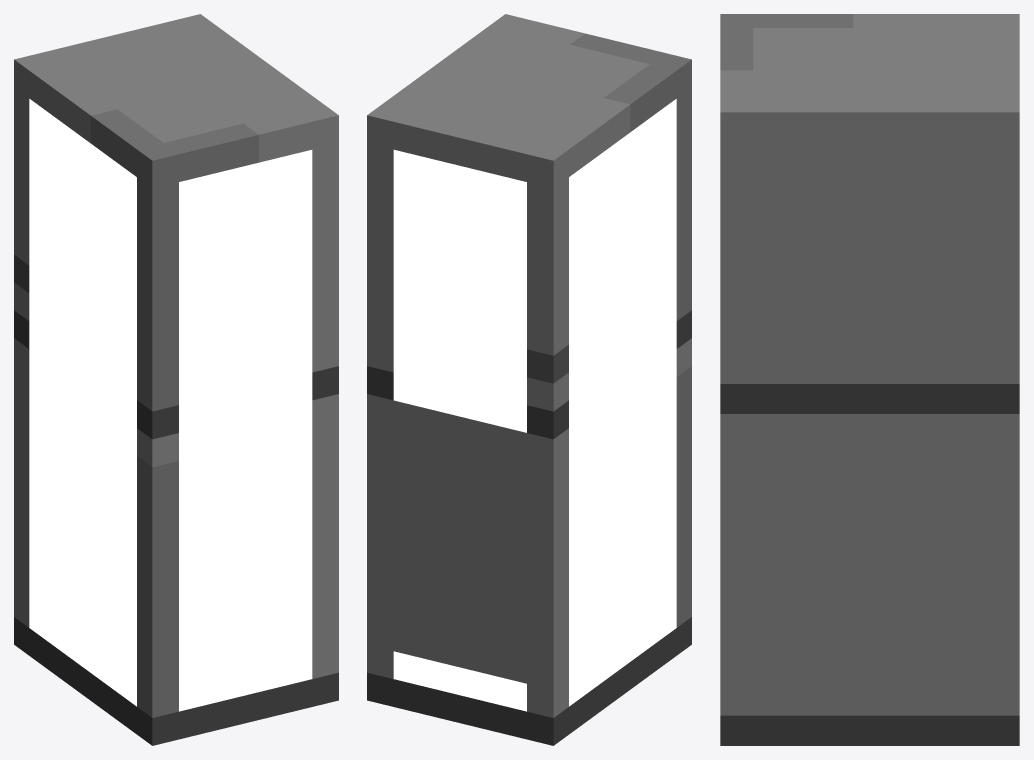
Rendered from lightBox.glb.
The picture shows the model from 3 angles, left to right: view 1: azimuth 30°, elevation 25°; view 2: azimuth 150°, elevation 25°; view 3: azimuth 270°, elevation 25°; orthographic projection. The views are drawn at different scales.
Parts seen in each view (by area): view 1: ObjObject; view 2: ObjObject; view 3: ObjObject.
Boxes of the visible parts, x1=… form: ObjObject: x1=14, y1=14, x2=338, y2=745; ObjObject: x1=367, y1=14, x2=691, y2=745; ObjObject: x1=720, y1=14, x2=1019, y2=745.
Bounding box in the file's own units: 0.7 × 2.1 × 0.9.
2 materials, 1 textured.
